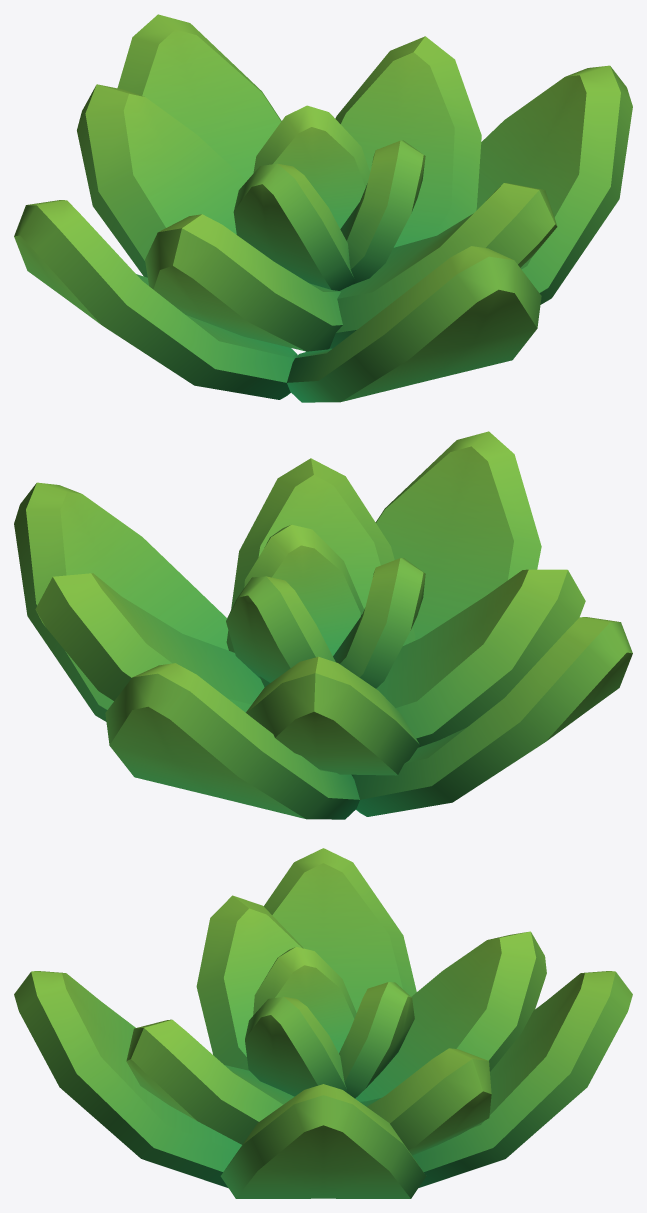
Rendered from green-succulent.glb.
3 views of the same model, one above another, from view 1: azimuth 30°, elevation 25°; view 2: azimuth 150°, elevation 25°; view 3: azimuth 270°, elevation 25° (orthographic). The views are drawn at different scales.
Parts seen in each view (by area): view 1: succulent_A; view 2: succulent_A; view 3: succulent_A.
Boxes of the visible parts, bbox=[...] form: succulent_A: bbox=[14, 14, 632, 402]; succulent_A: bbox=[14, 431, 632, 819]; succulent_A: bbox=[14, 848, 632, 1198].
Size of the model in its own units: 0.626 by 0.2174 by 0.626.
Materials: 1 (1 with a texture image).
